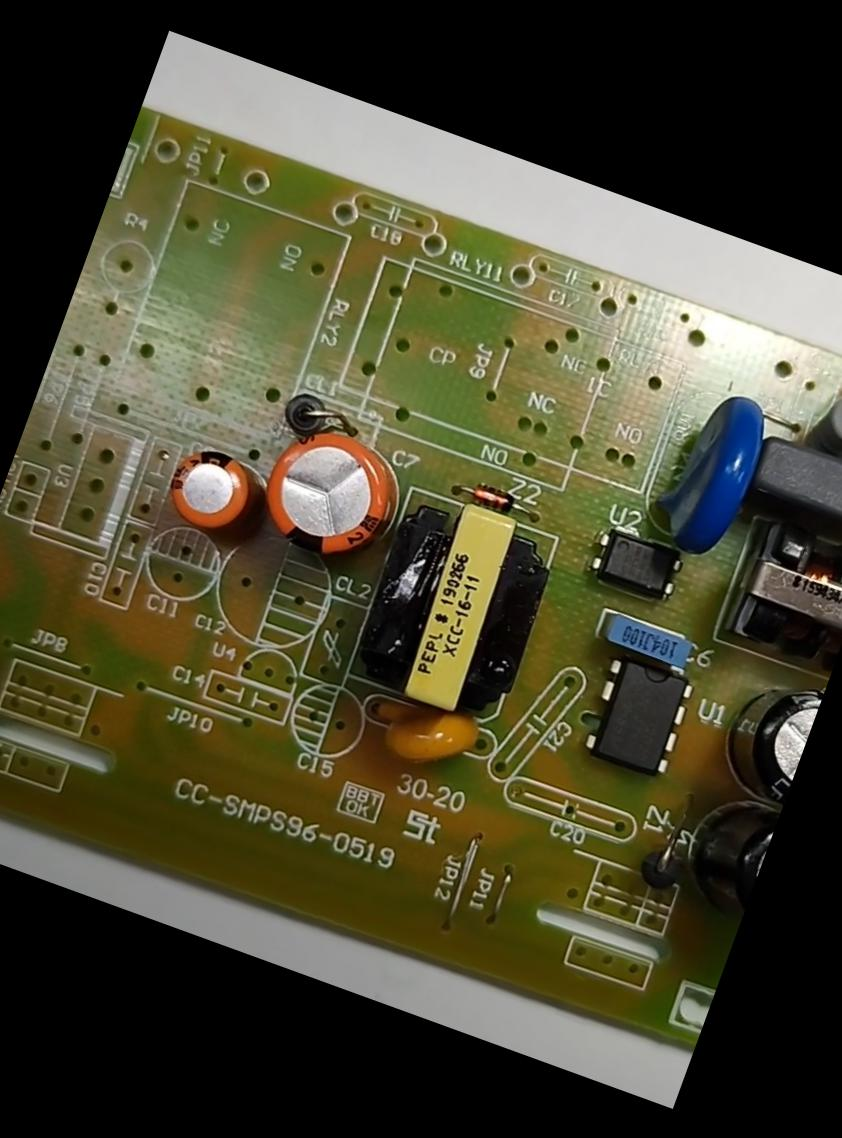Cap1: (236, 392, 432, 598)
Cap2: (142, 422, 285, 564)
Cap3: (694, 644, 830, 824)
Cap4: (654, 770, 784, 946)
MOSFET: (565, 637, 708, 796)
Mov: (634, 372, 788, 575)
Resistor: (801, 356, 841, 472)
Transformer: (334, 466, 574, 742), (710, 494, 841, 688)
